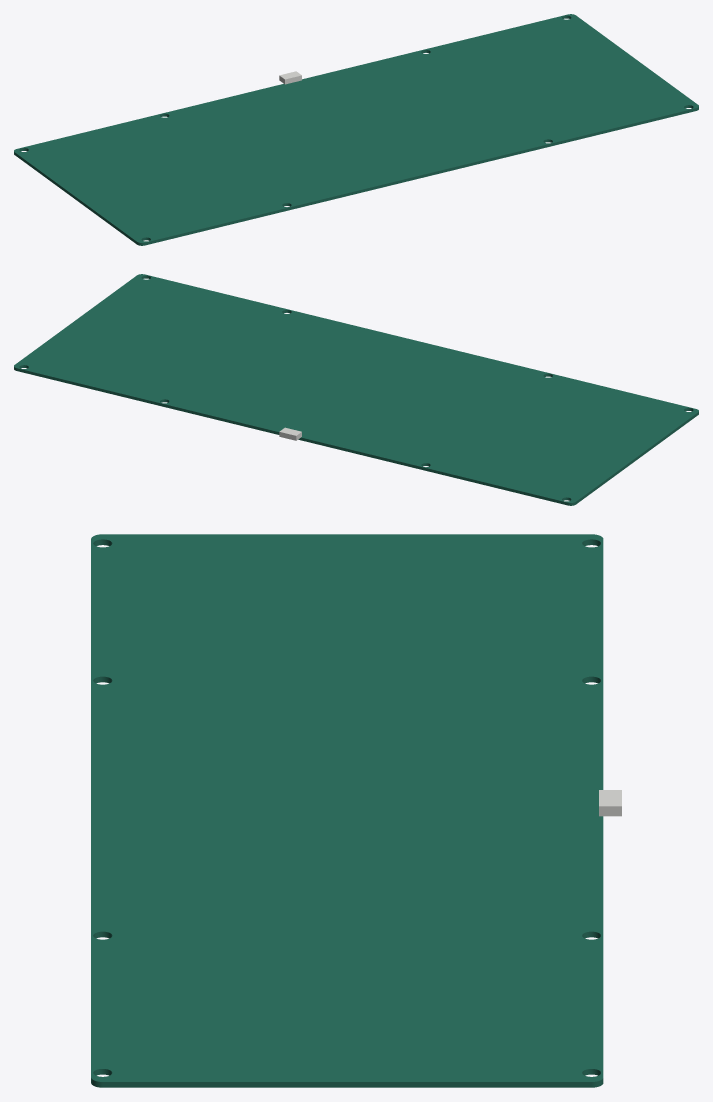
3 renders of one model, top to bottom at view 1: azimuth 30°, elevation 25°; view 2: azimuth 150°, elevation 25°; view 3: azimuth 270°, elevation 25°, orthographic. The views are drawn at different scales.
Visible parts, largest first — view 1: =>[0:1:1:4]; view 2: =>[0:1:1:4]; view 3: =>[0:1:1:4].
Part boxes in pixels (bbox=[...]): =>[0:1:1:4]: bbox=[14, 14, 698, 245]; =>[0:1:1:4]: bbox=[14, 274, 698, 505]; =>[0:1:1:4]: bbox=[91, 534, 603, 1087].
Size of the model in its own units: 0.3296 by 0.0044 by 0.135.
